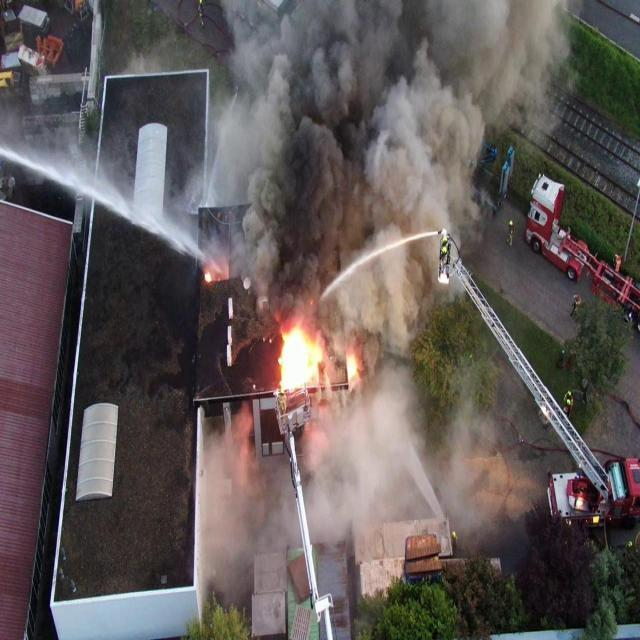Fire: (278, 327, 324, 392), (346, 354, 356, 380), (204, 272, 212, 282)
Smoke: (200, 0, 572, 607), (124, 49, 162, 76)
